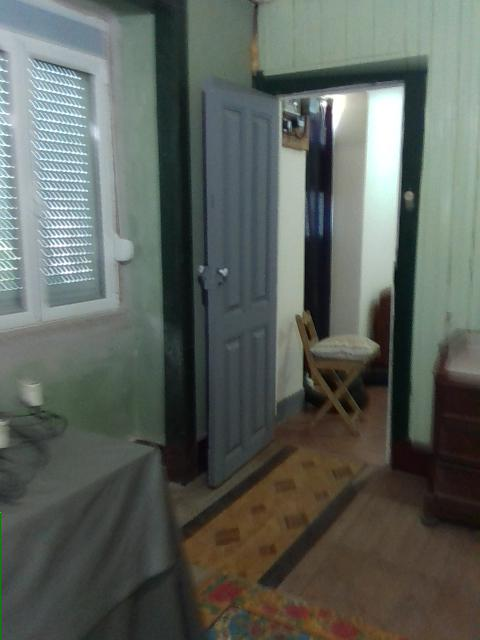door: (197, 77, 277, 490)
